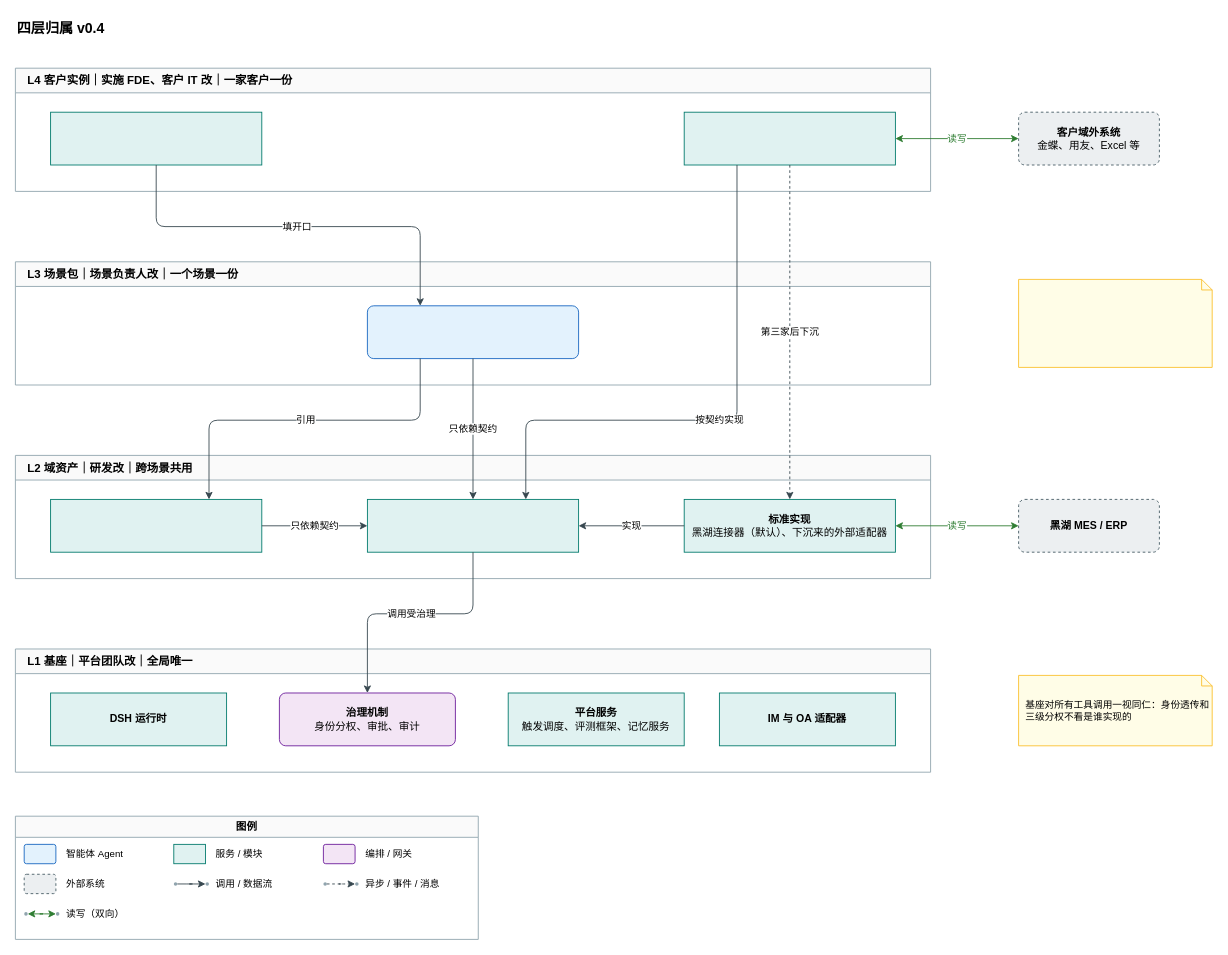
This 1228x955 diagram has some shape labels left out. Each missing label, with the box of its shape:
三条层间规则 ① 单向依赖：上层引用下层 ② 开口覆盖：治理只许调严 ③ 证据下沉：第三次才下沉: (1018, 279, 1212, 367)
共用件 通用 Skill、通用交互组件: (50, 499, 262, 552)
场景包（Agent 预设） 任务契约、编排 SOP、工具选用、审批点、考卷: (367, 305, 579, 359)
契约 本体对象、工具接口、口径、契约测试: (367, 499, 579, 552)
客户适配器 FDE 写：域外系统适配器、采集落地表: (683, 111, 895, 165)
客户配置 组织权限、阈值、专属 SOP、IM/OA 选型: (50, 111, 262, 165)
